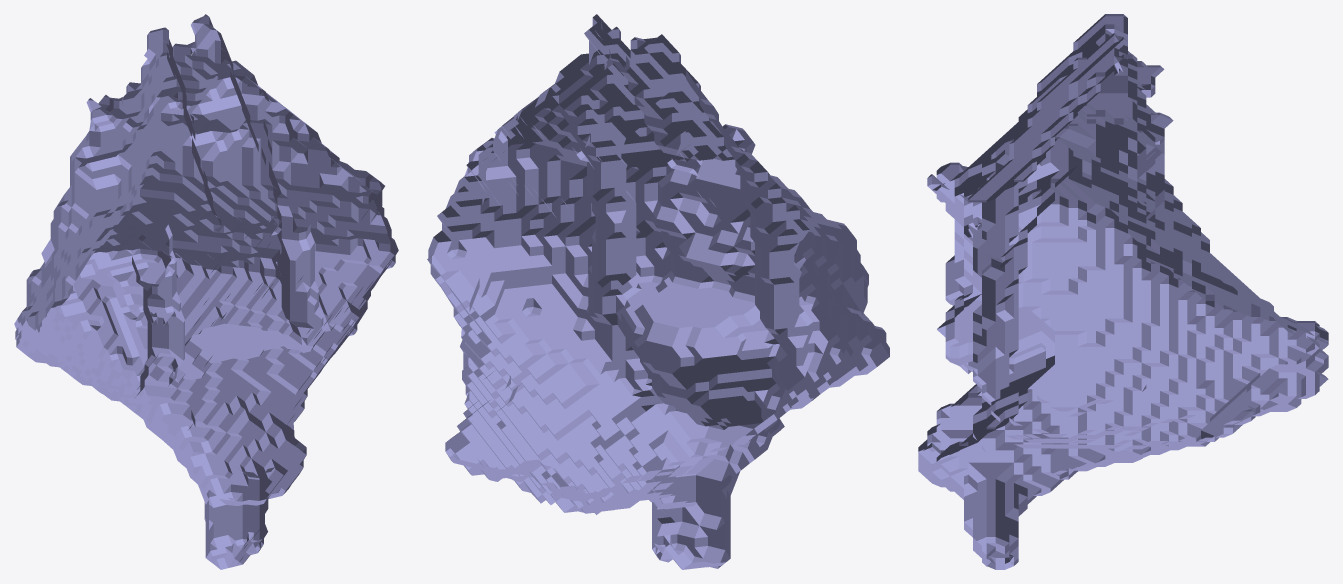
File: region_0151_TPp__periventricular_nucleus_of_posterior_tuberculum_.glb
3 renders of one model, left to right at view 1: azimuth 30°, elevation 25°; view 2: azimuth 150°, elevation 25°; view 3: azimuth 270°, elevation 25°, orthographic. The views are drawn at different scales.
Visible parts, largest first — view 1: world; view 2: world; view 3: world.
Boxes of the visible parts, left/top/right/bottom form: world: left=14, top=14, right=398, bottom=569; world: left=427, top=14, right=889, bottom=569; world: left=918, top=14, right=1328, bottom=569.
Size of the model in its own units: 0.416 by 0.528 by 0.36.
